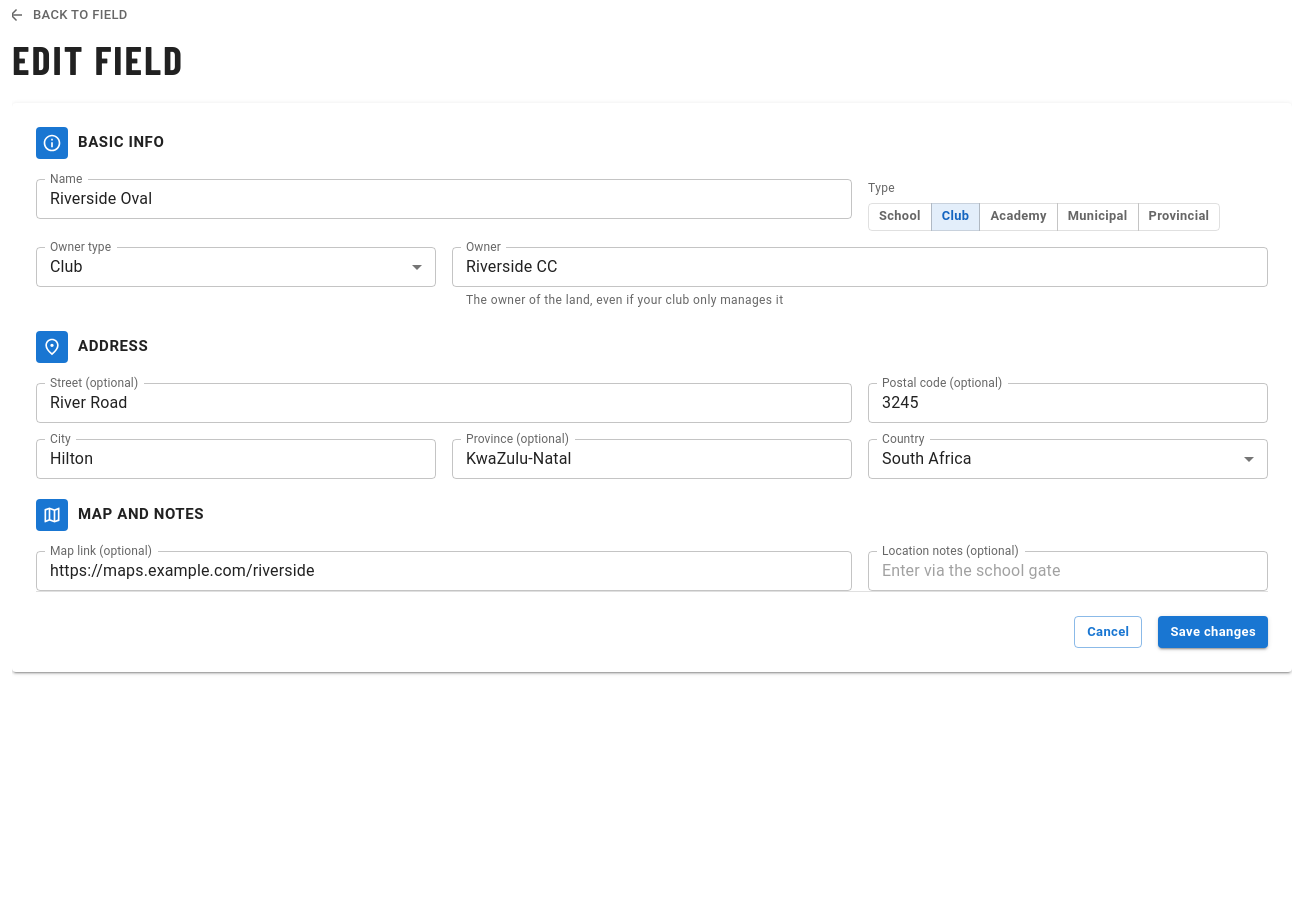
AdminFieldFormPage › validates before saving
Expected: the heading "Edit field" is shown, [12, 35, 184, 83]
Clear the field labelled "Name": (444, 199) [36, 179, 852, 219]
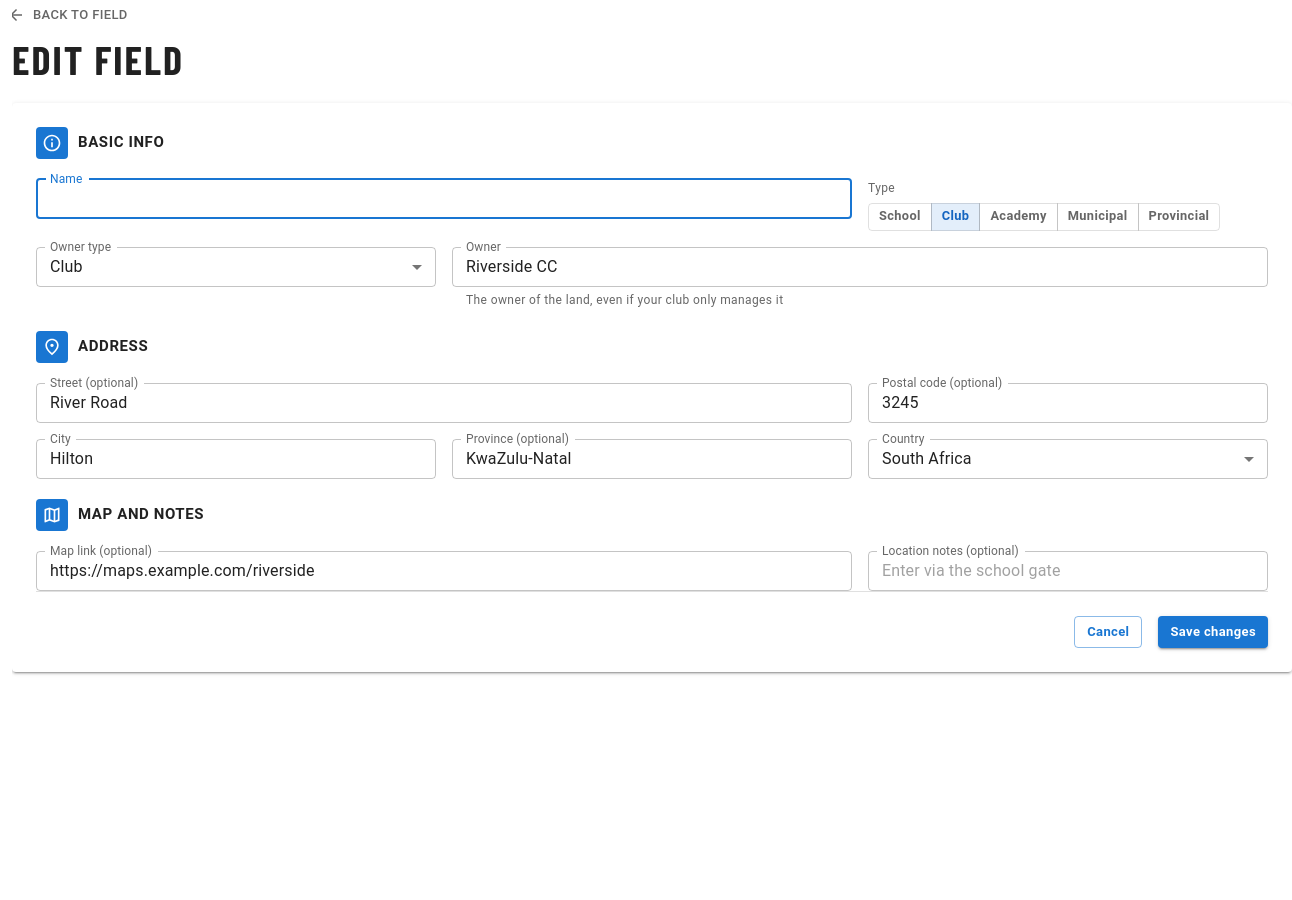
Click the button "Save changes": (1213, 632) [1158, 616, 1268, 648]
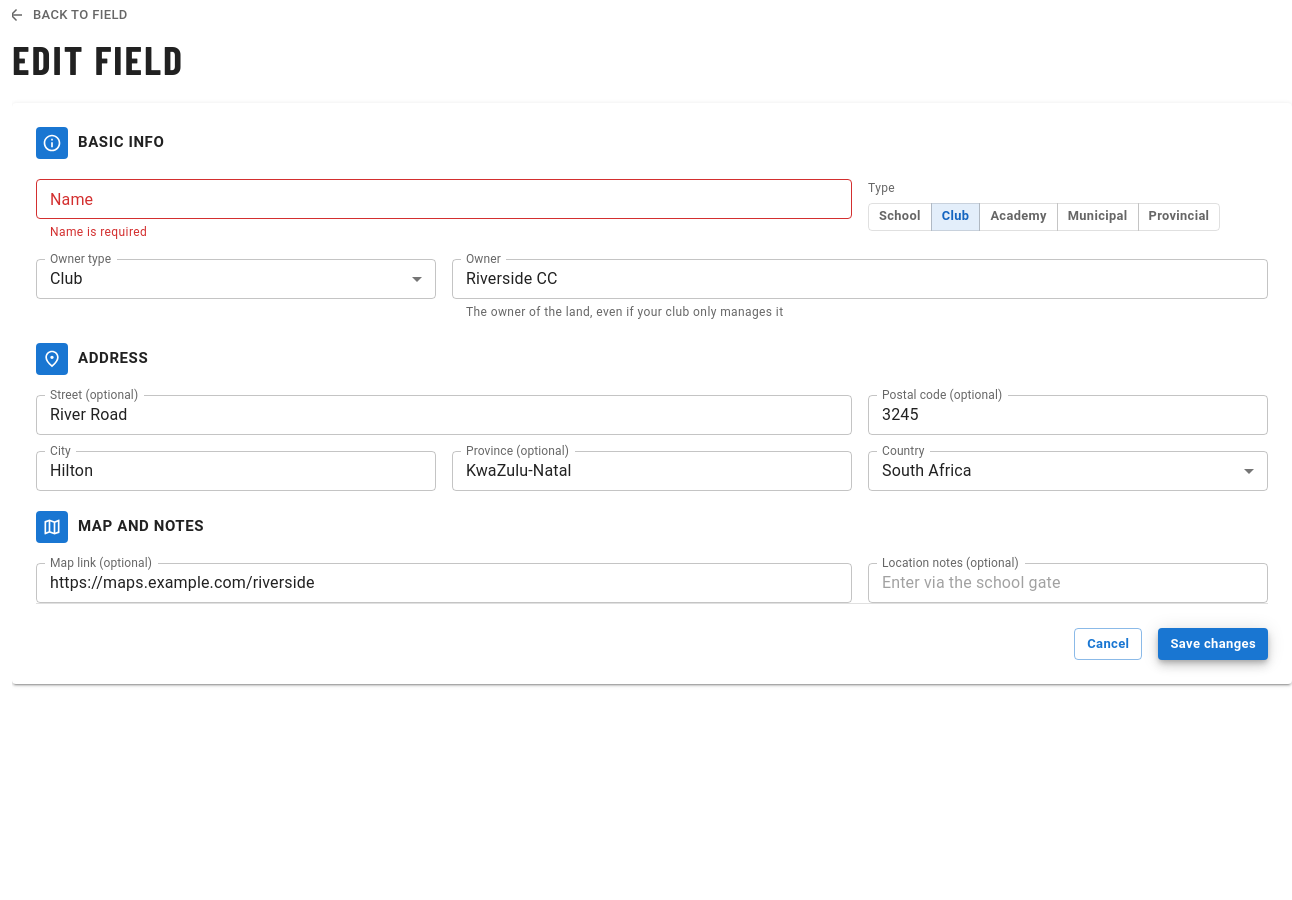
Result: the text "Name is required" is shown at [50, 225, 147, 239]
